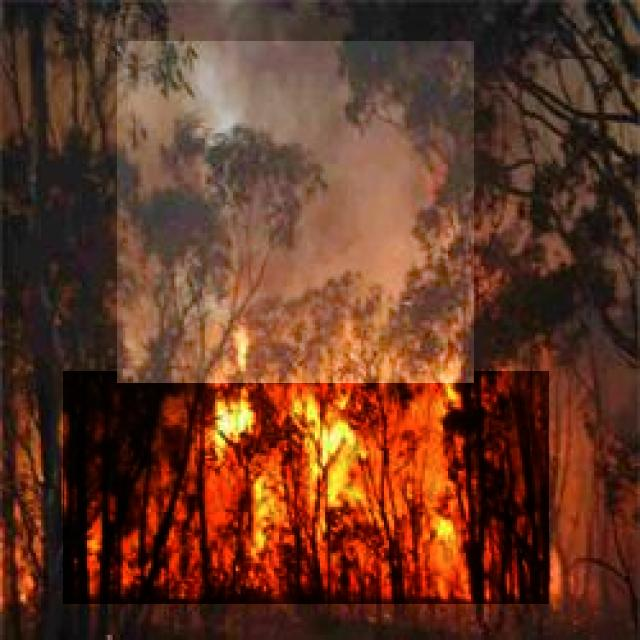Fire: (63, 371, 549, 604)
Smoke: (117, 41, 474, 383)
